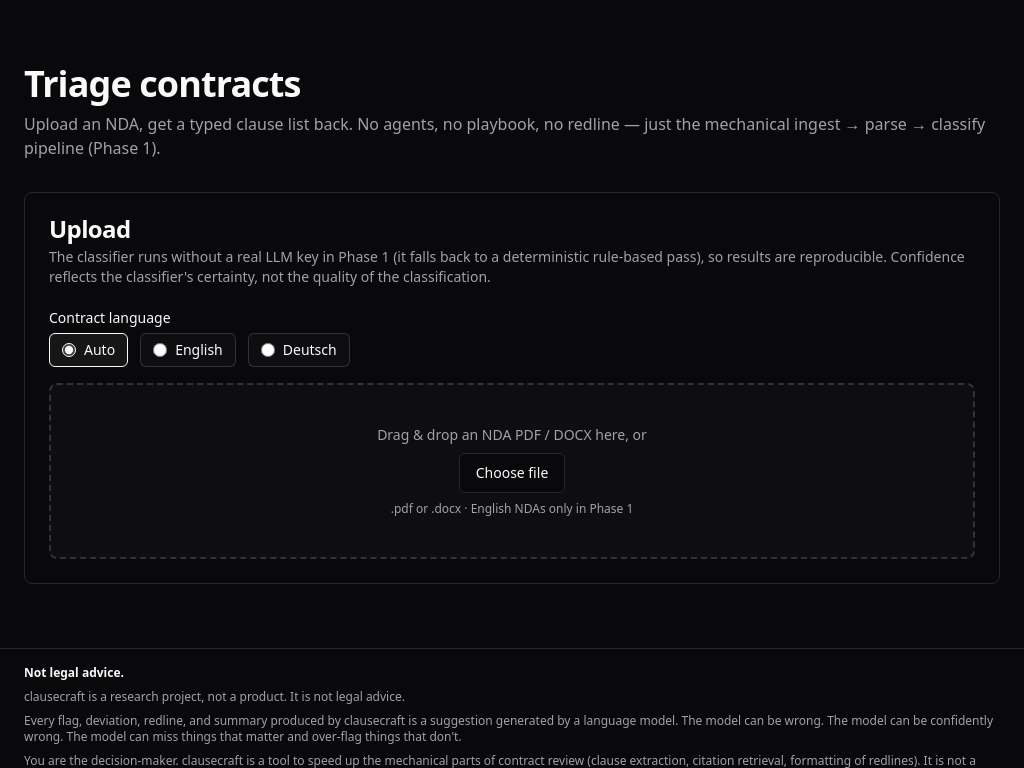
Test: TriagePage — Phase 4 language picker wiring › swaps the page title to DE when the picker is set to 'Deutsch'
Expected: the heading "Triage contracts" is shown, x1=24 y1=59 x2=301 y2=108
# Click Deutsch.
Click the radio button with test id "language-picker-input-de" at coordinates (268, 350), box x1=261 y1=343 x2=275 y2=357
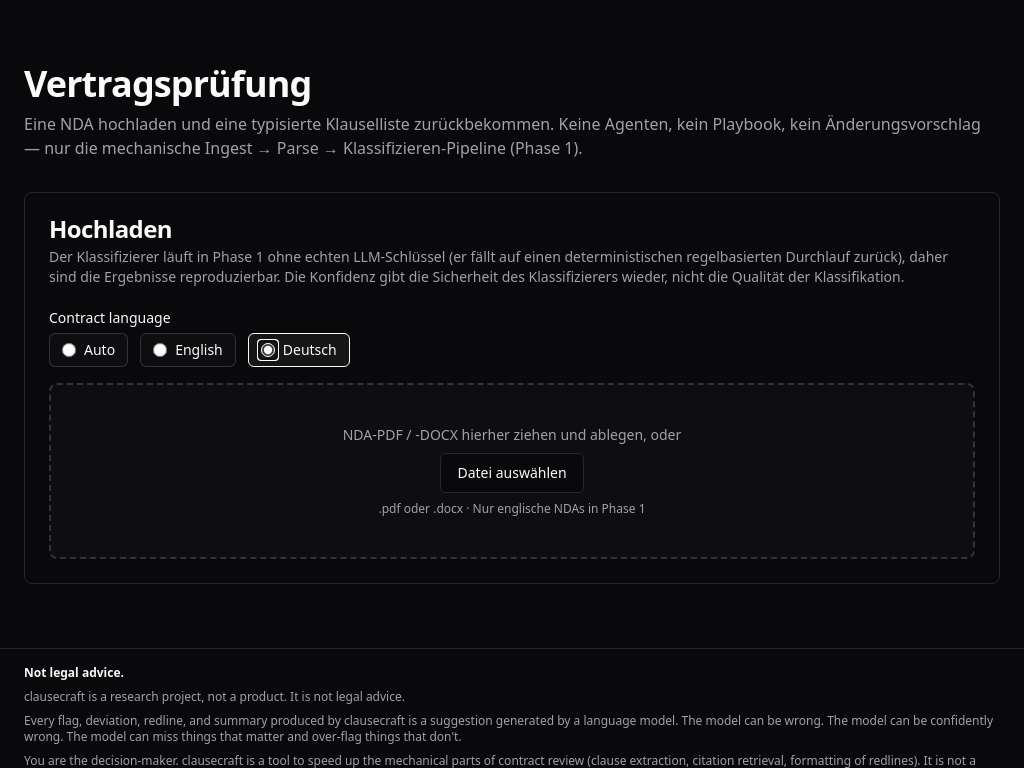
Expected: the heading "Vertragsprüfung" is shown, x1=24 y1=59 x2=311 y2=108
